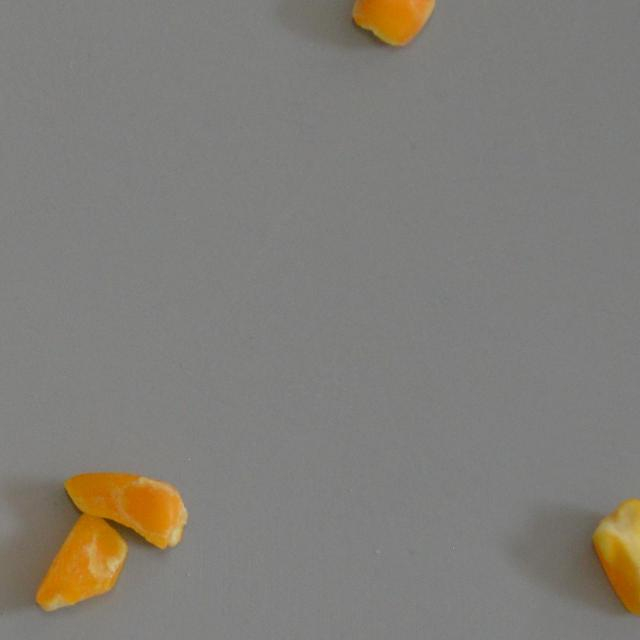estandar: (592, 498, 640, 616)
pelicula: (62, 466, 190, 552), (34, 514, 126, 616), (348, 0, 436, 45)
